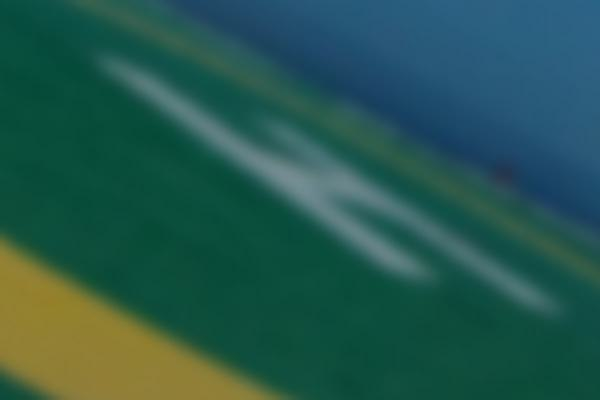Apron: (4, 2, 600, 400)
